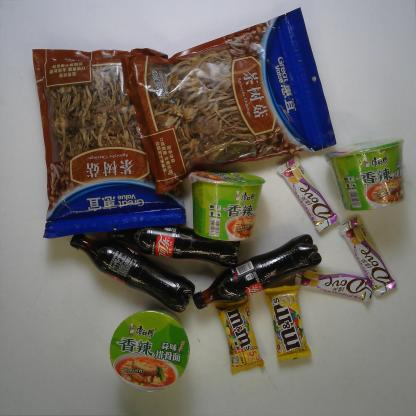Chocolate: (276, 152, 340, 234), (337, 216, 395, 298), (260, 282, 318, 363), (212, 294, 266, 376), (290, 262, 375, 307)
Dried Food: (126, 9, 340, 194), (30, 41, 188, 240)
Drink: (68, 228, 196, 315), (192, 233, 326, 314), (96, 220, 242, 268)
Instant Noodles: (102, 306, 192, 392), (183, 164, 268, 246), (326, 136, 407, 214)
